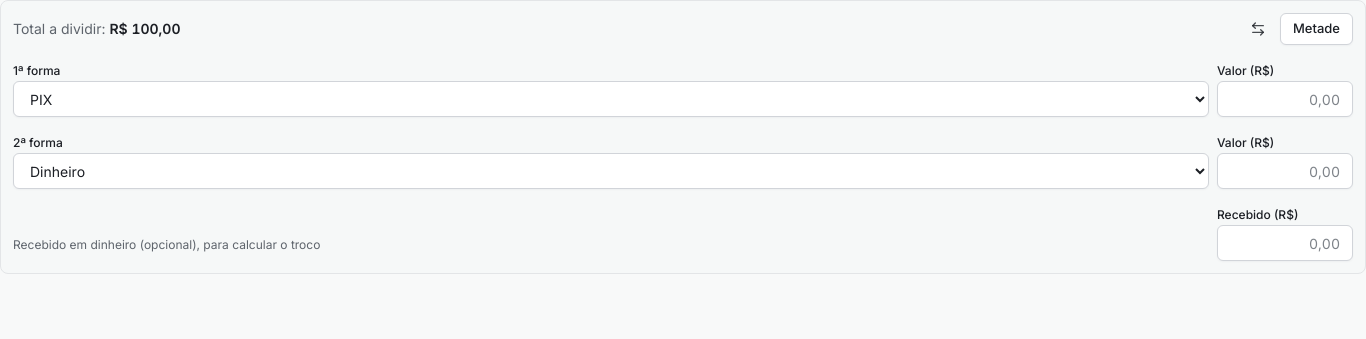
Test: PagamentoDividido › aceita vírgula como separador decimal
Type "33,33" into the field with id "divisao-valor-2". click: (1285, 171)
box: [1217,153,1353,189]
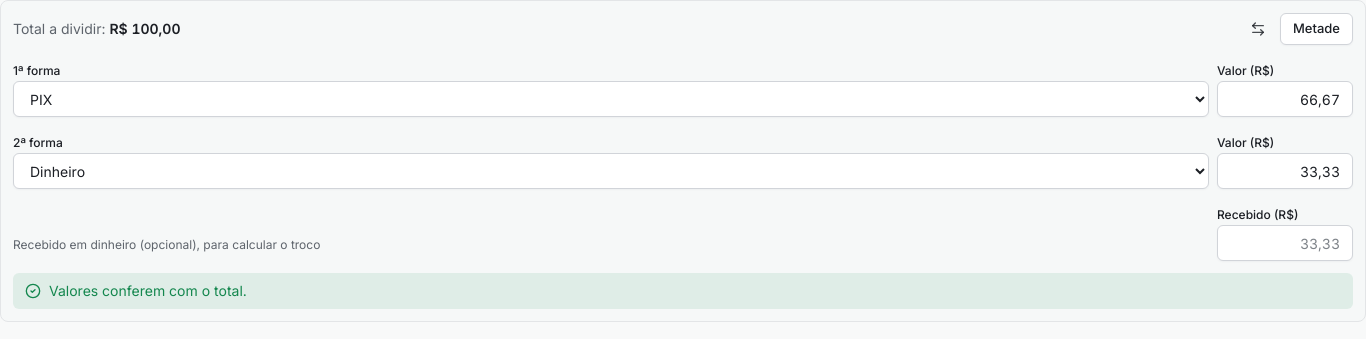
Result: the field with id "divisao-valor-1" holds "66,67" at [1217,81,1353,117]
